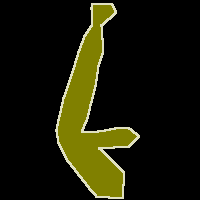tie: (56, 4, 139, 198)
